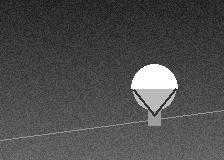helmet: (131, 64, 177, 115)
